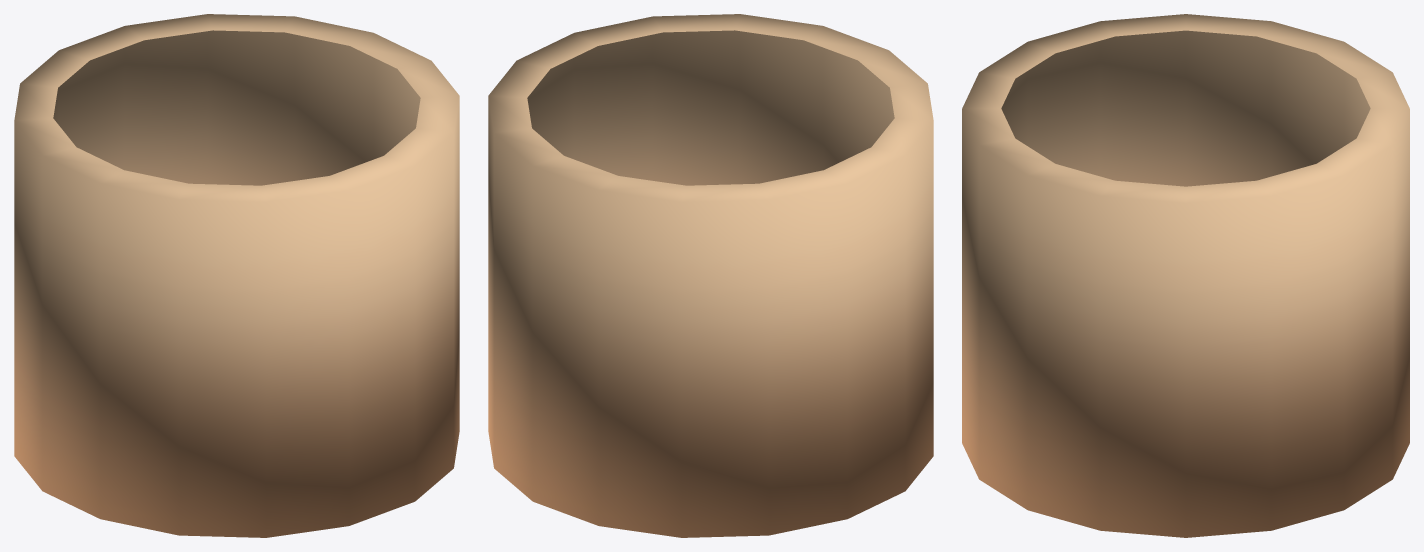
The model's file is LampHead.fbx.
3 views of the same model, side by side, from view 1: azimuth 30°, elevation 25°; view 2: azimuth 150°, elevation 25°; view 3: azimuth 270°, elevation 25° (orthographic).
Visible parts, largest first — view 1: LampHead; view 2: LampHead; view 3: LampHead.
Part boxes in pixels (x1,y1,x2,y2): LampHead: [14, 14, 459, 537]; LampHead: [488, 14, 933, 537]; LampHead: [962, 14, 1409, 537].
Size of the model in its own units: 0.8504 by 0.7016 by 0.8504.
